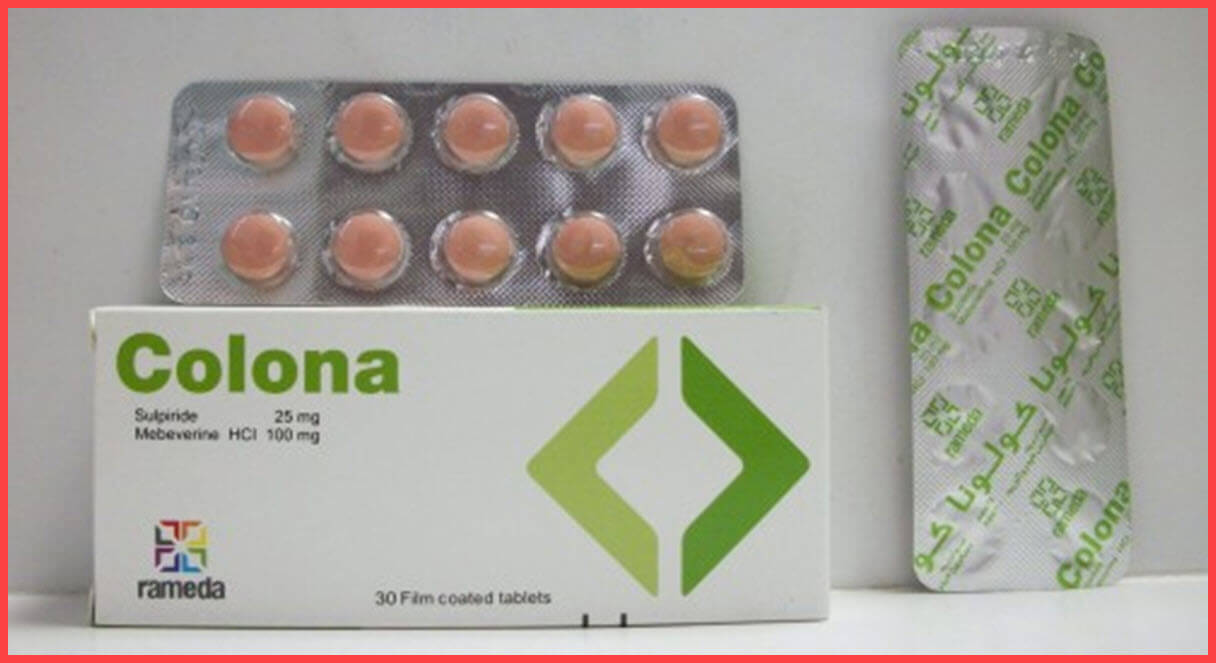Medicine: (80, 296, 840, 632), (898, 22, 1162, 624)
